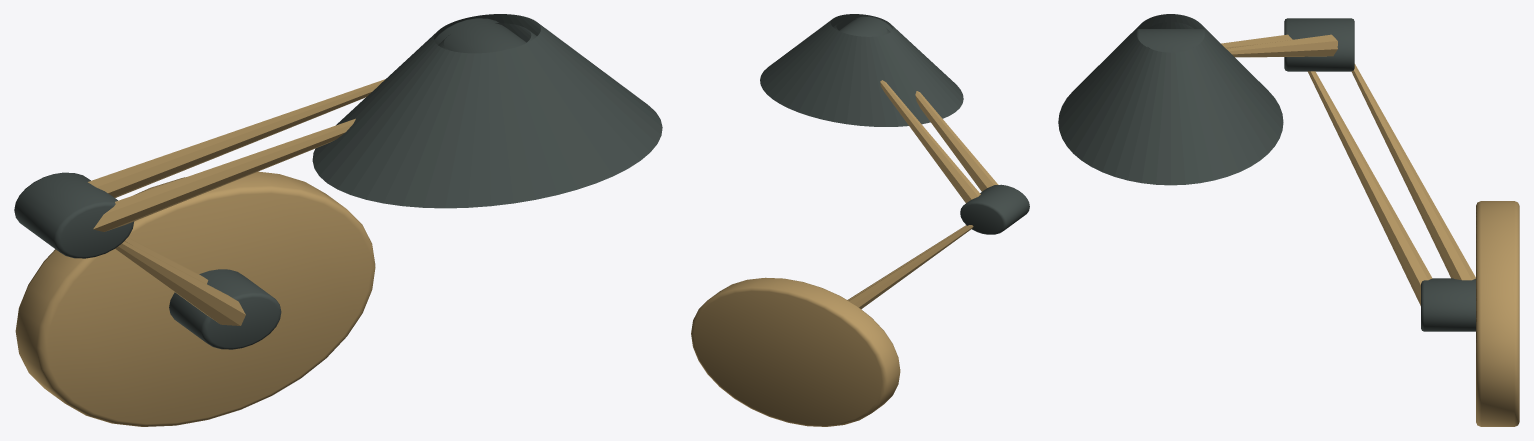
Rendered from reading-wall-lamp.glb.
3 views of the same model, side by side, from view 1: azimuth 30°, elevation 25°; view 2: azimuth 150°, elevation 25°; view 3: azimuth 270°, elevation 25° (orthographic). The views are drawn at different scales.
Visible parts, largest first — view 1: reading-wall-lamp; view 2: reading-wall-lamp; view 3: reading-wall-lamp.
Boxes of the visible parts, x1,y1,x2,y2 form: reading-wall-lamp: (14, 14, 662, 426); reading-wall-lamp: (691, 14, 1029, 426); reading-wall-lamp: (1058, 14, 1519, 426).
Bounding box in the file's own units: 0.4 × 0.37 × 0.38.
